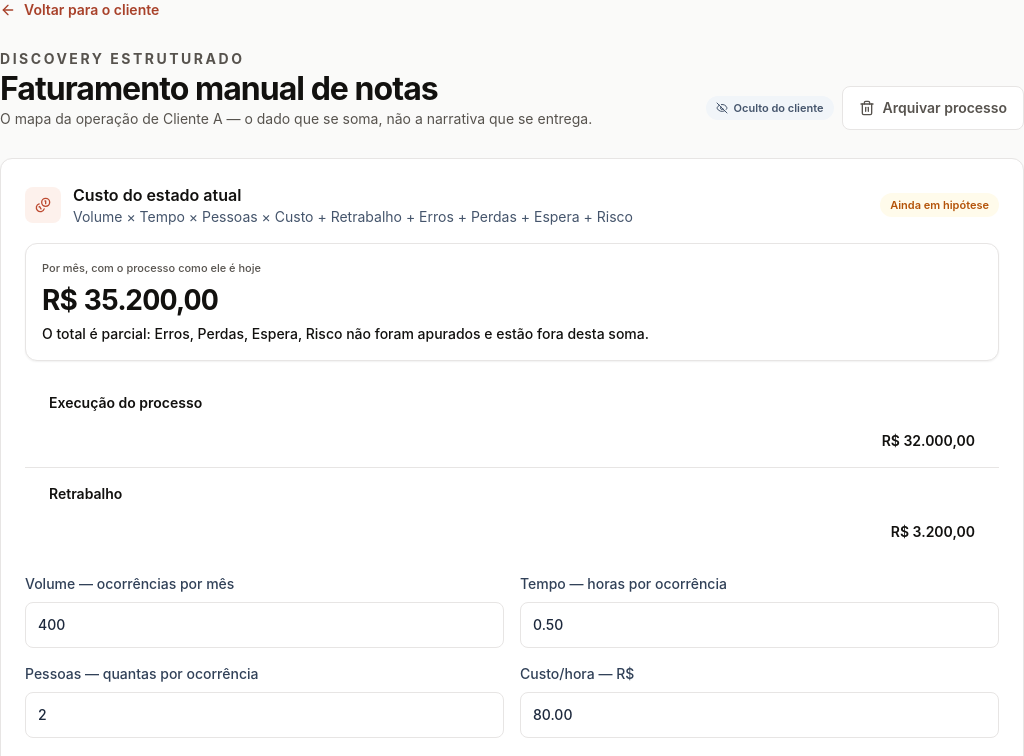
arquivar avisa que as etapas vão junto e os achados ficam com a conta
Check: the heading "Faturamento manual de notas" is shown, box left=0, top=69, right=438, bottom=108
# Nada foi arquivado ainda: a confirmação é o que existe entre o clique e o `DELETE`.
Click the button "Arquivar processo": (933, 108) left=842, top=86, right=1023, bottom=130
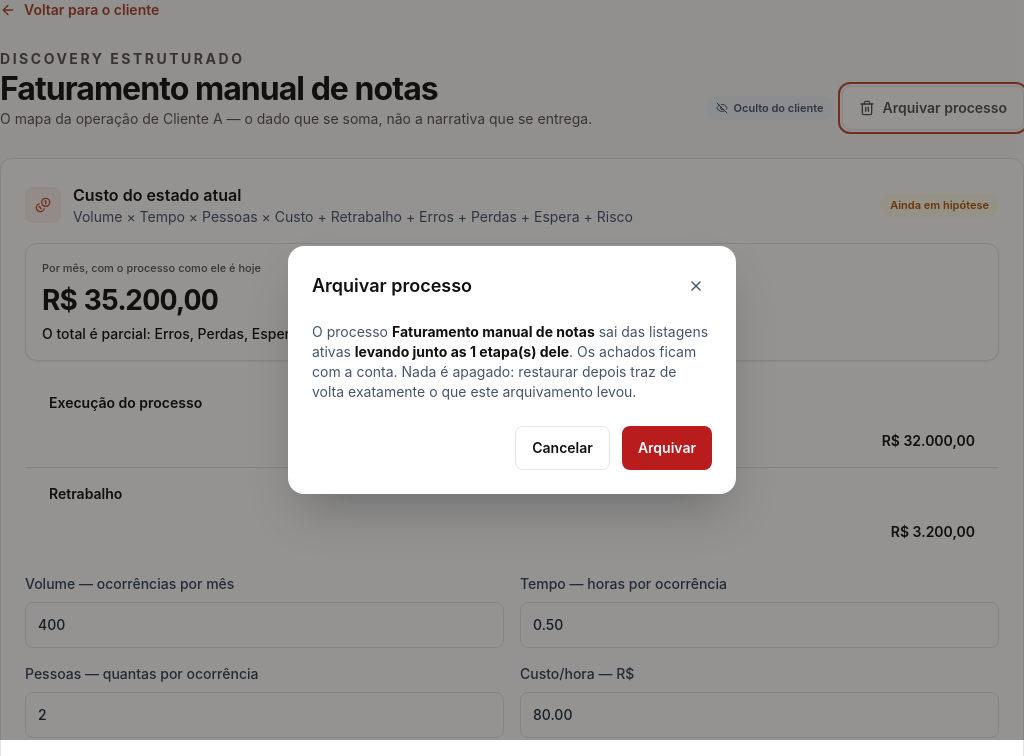
Check: the text "levando junto as 1 etapa(s) dele" is shown, box left=355, top=343, right=569, bottom=360
Check: the text "achados ficam com a conta" is shown, box left=312, top=343, right=696, bottom=400
Check: the button "Arquivar" is shown, box left=622, top=426, right=712, bottom=470
